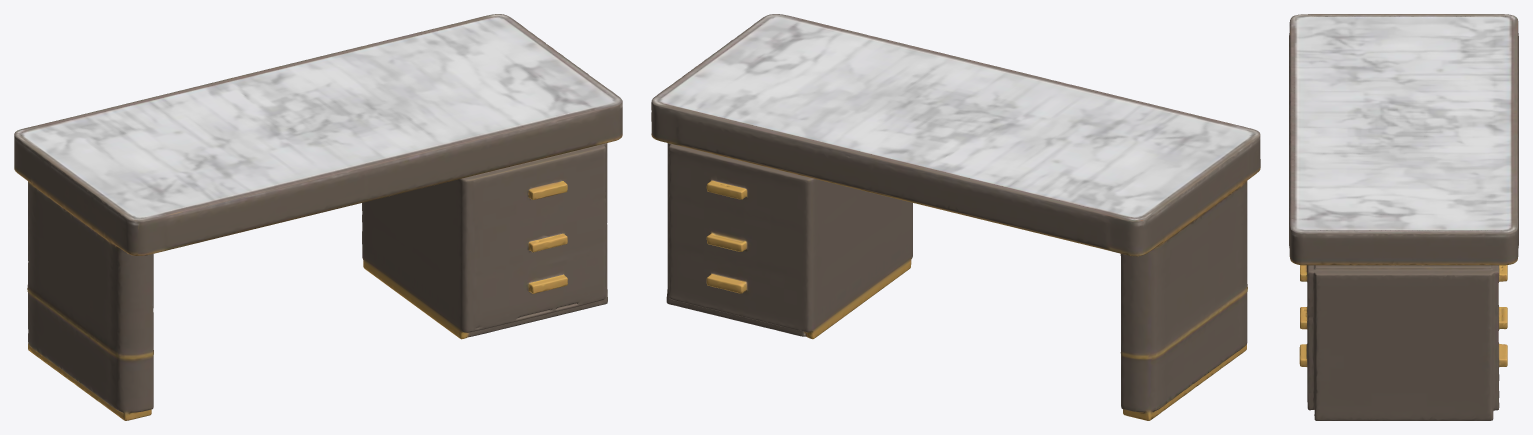
The model's file is Modern Executive Desk with Marble Top [rn3KLc].glb.
The picture shows the model from 3 angles, left to right: view 1: azimuth 30°, elevation 25°; view 2: azimuth 150°, elevation 25°; view 3: azimuth 270°, elevation 25°; orthographic projection. The views are drawn at different scales.
Parts seen in each view (by area): view 1: world; view 2: world; view 3: world.
Part boxes in pixels (x1=…): world: x1=14, y1=14, x2=622, y2=420; world: x1=651, y1=14, x2=1260, y2=420; world: x1=1289, y1=14, x2=1518, y2=420.
Bounding box in the file's own units: 1 × 0.4069 × 0.4437.
Materials: 1 (1 with a texture image).
